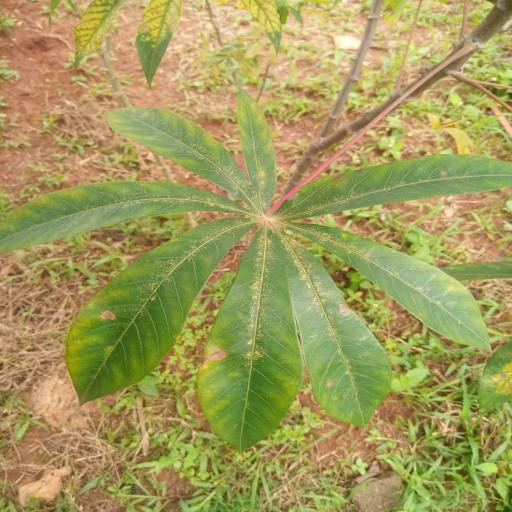Cassava_Mosaic: (5, 103, 512, 448)
